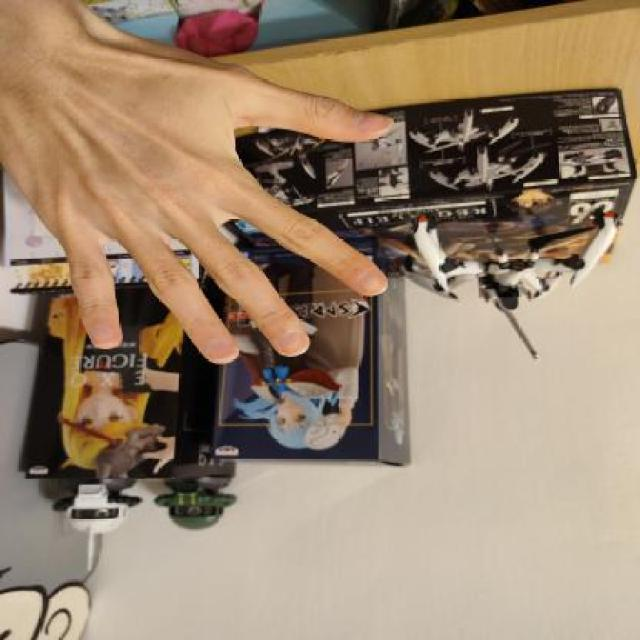bare_hand: (2, 6, 416, 385)
